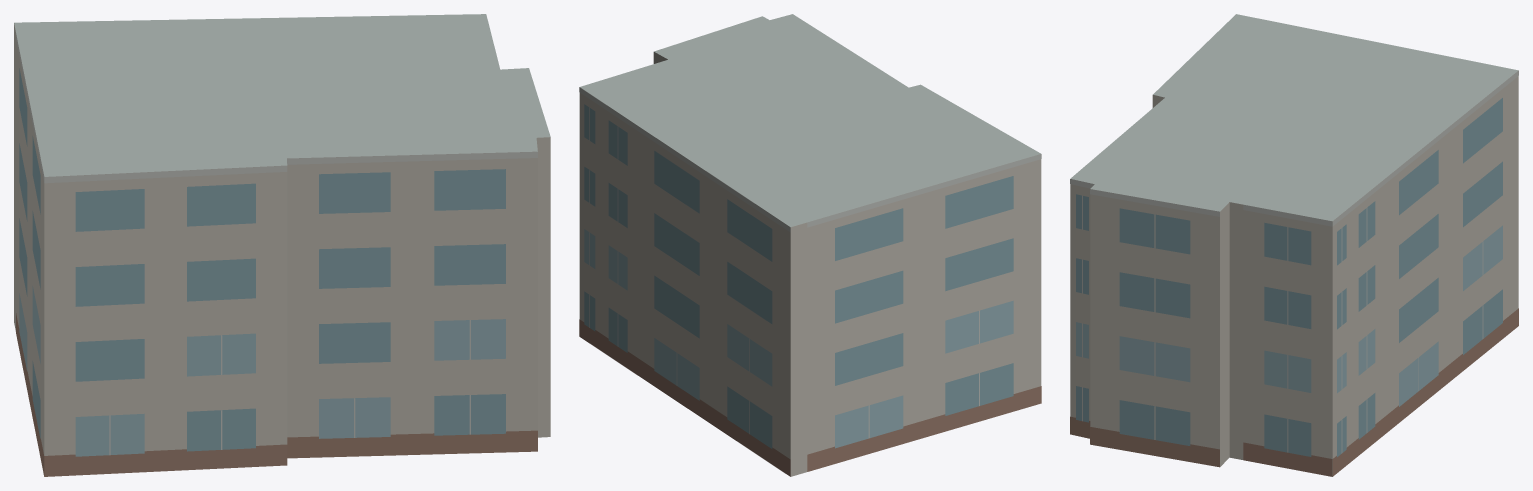
File: survey-upis-33011218.glb
The picture shows the model from 3 angles, left to right: view 1: azimuth 30°, elevation 25°; view 2: azimuth 150°, elevation 25°; view 3: azimuth 270°, elevation 25°; orthographic projection. The views are drawn at different scales.
Visible parts, largest first — view 1: survey-upis-33011218.tmp; view 2: survey-upis-33011218.tmp; view 3: survey-upis-33011218.tmp.
Part boxes in pixels (box(x1,y1,x2,y2)): survey-upis-33011218.tmp: box(14, 14, 550, 476); survey-upis-33011218.tmp: box(579, 14, 1041, 476); survey-upis-33011218.tmp: box(1070, 14, 1518, 476).
Size of the model in its own units: 20.19 by 11.6 by 18.46.
